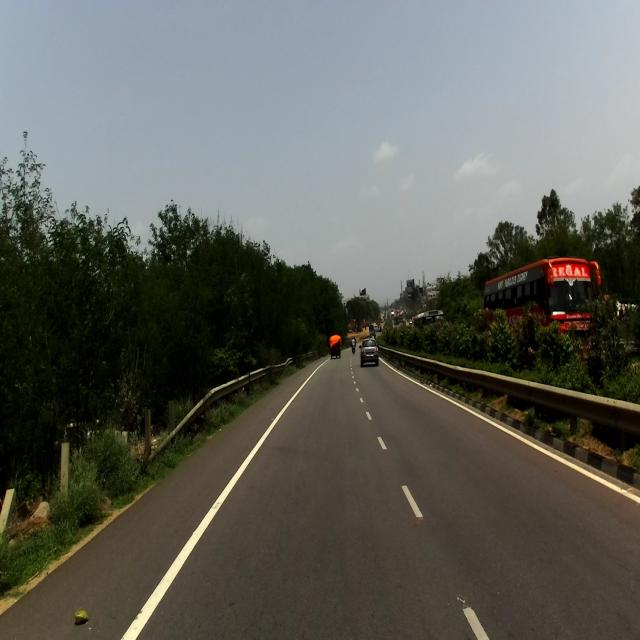bus: (483, 253, 601, 354)
car: (358, 336, 380, 367)
